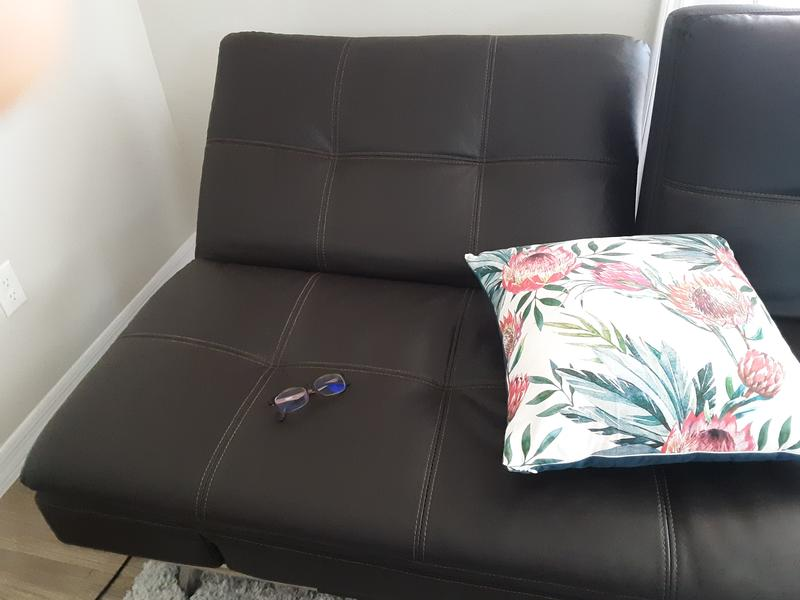glasses: (270, 370, 353, 424)
